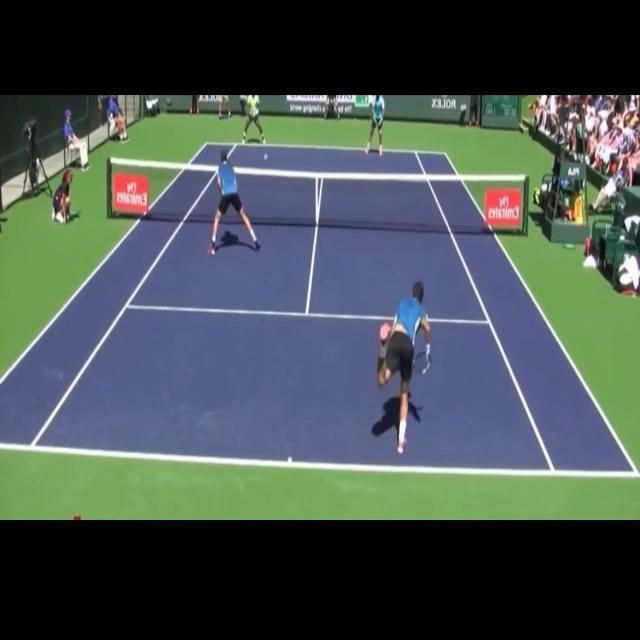court: (0, 142, 640, 480)
net: (105, 156, 528, 232)
player: (376, 280, 431, 453), (206, 150, 261, 258)
